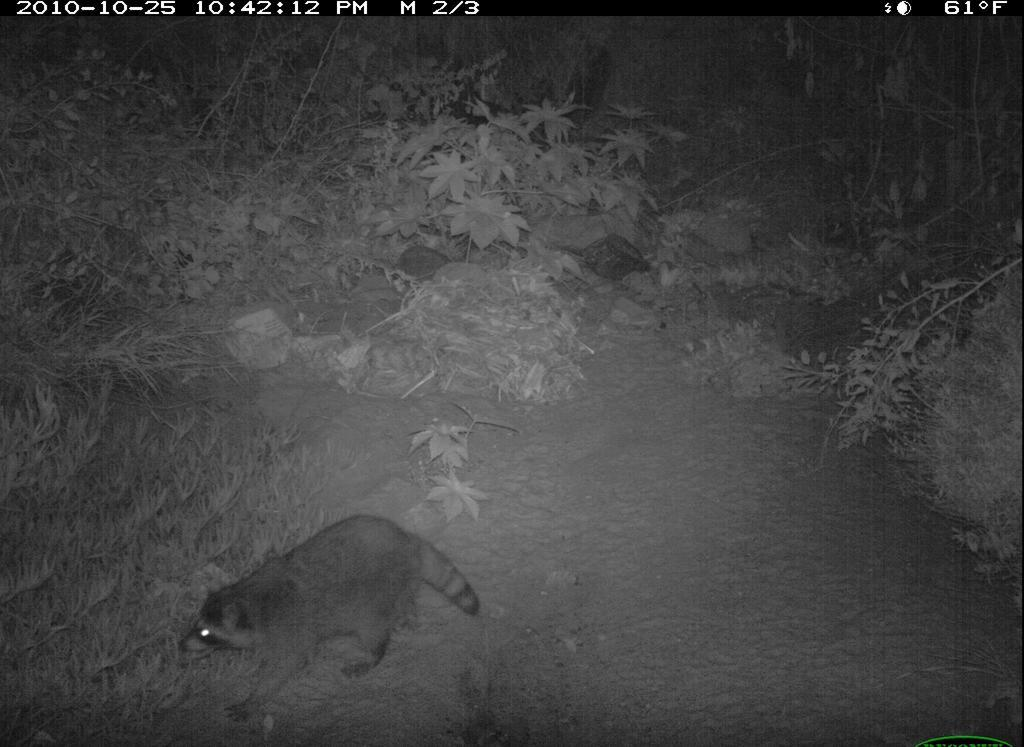raccoon: (176, 510, 487, 729)
